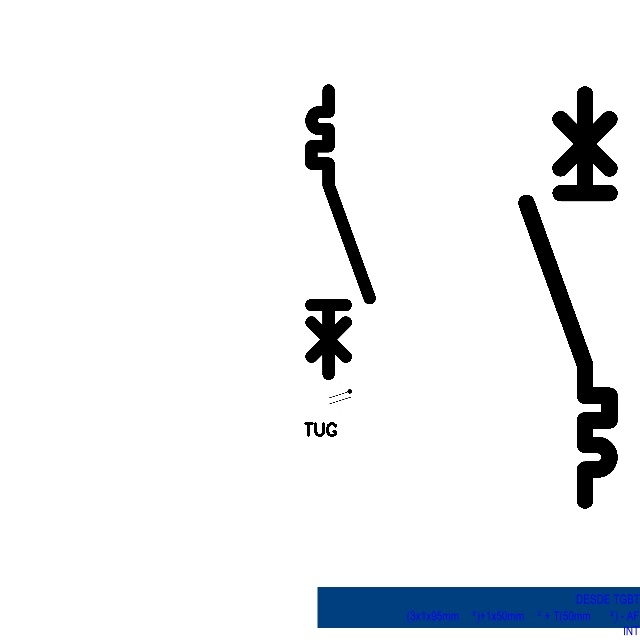interruptor_termomagnetico: (516, 84, 620, 511), (304, 83, 377, 381)
